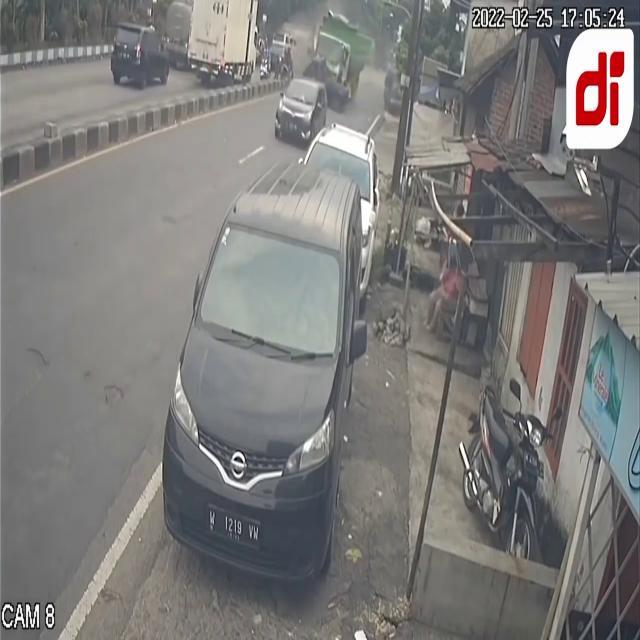multiple_accident: (310, 31, 369, 113)
normal: (154, 130, 410, 563), (110, 3, 267, 126)
